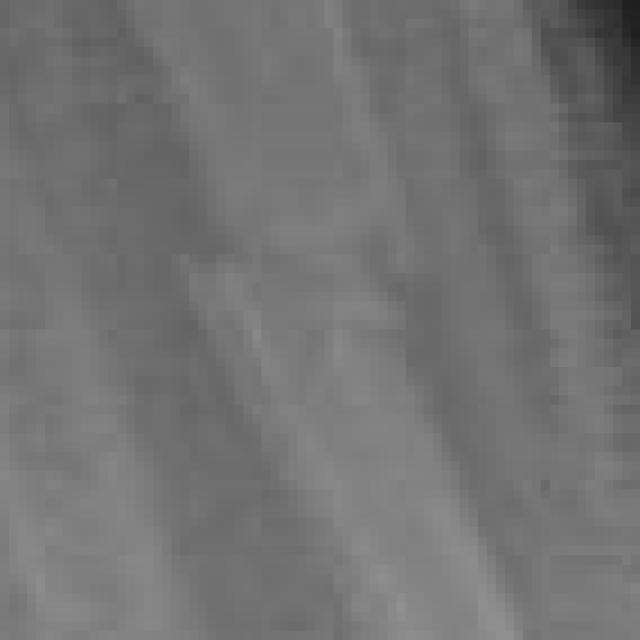fracture: (0, 2, 640, 640)
